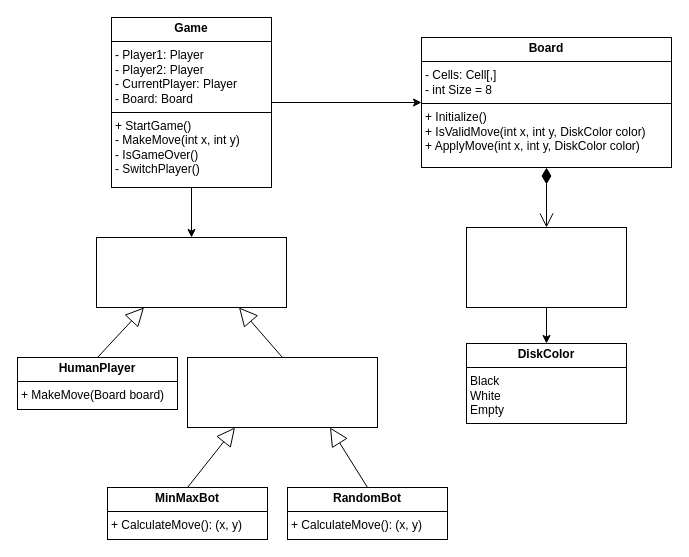
Some shapes in this 689 by 557 pixel diagram are drawn without their labels. Here are the shapes that lost their labels. From the top down, the centre of each, then its label:
At (x=191, y=272): "<<Abstarct>> Player + MakeMove(int x, int y)".
At (x=546, y=267): "Cell + State: DiskColor = Empty + Flip()".
At (x=282, y=392): "<<Abstarct>> Bot + CalculateMove(): (x, y)".
